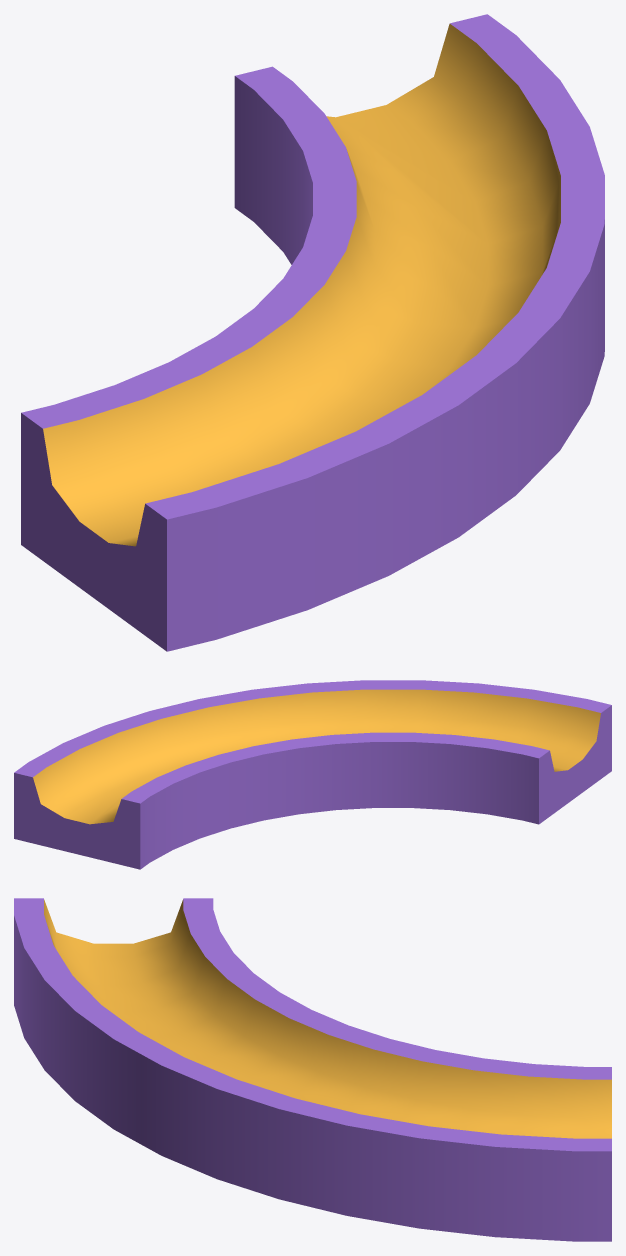
Rendered from kenney-marble-curve-large.glb.
3 renders of one model, top to bottom at view 1: azimuth 30°, elevation 25°; view 2: azimuth 150°, elevation 25°; view 3: azimuth 270°, elevation 25°, orthographic. The views are drawn at different scales.
Visible parts, largest first — view 1: curve-large; view 2: curve-large; view 3: curve-large.
Boxes of the visible parts, x1,y1,x2,y2 form: curve-large: (21,14,604,651); curve-large: (14,680,611,869); curve-large: (14,898,611,1241).
Bounding box in the file's own units: 3 × 0.4999 × 3.
Materials: 1 (1 with a texture image).
